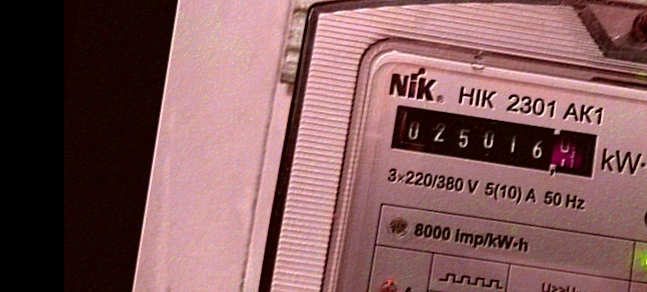0: (482, 127, 499, 151), (406, 119, 422, 142), (558, 133, 573, 155)
1: (506, 129, 521, 156), (558, 156, 567, 169)
2: (432, 120, 448, 145)
5: (457, 127, 471, 149)
6: (529, 136, 546, 163)
screen: (381, 93, 609, 188)
